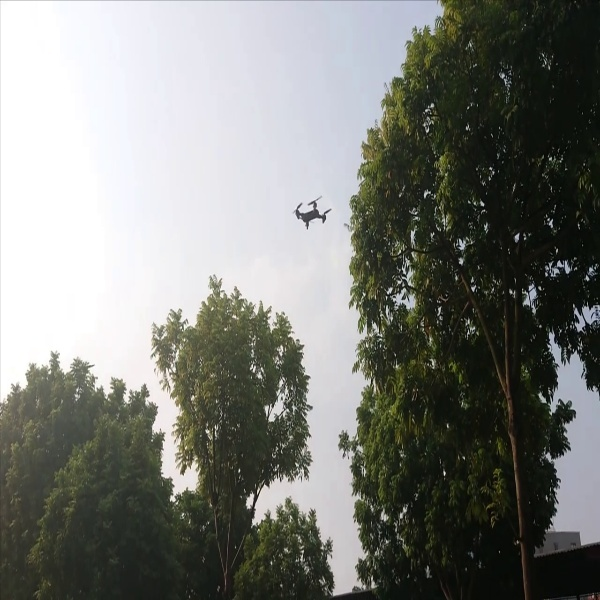drone: (288, 192, 335, 234)
